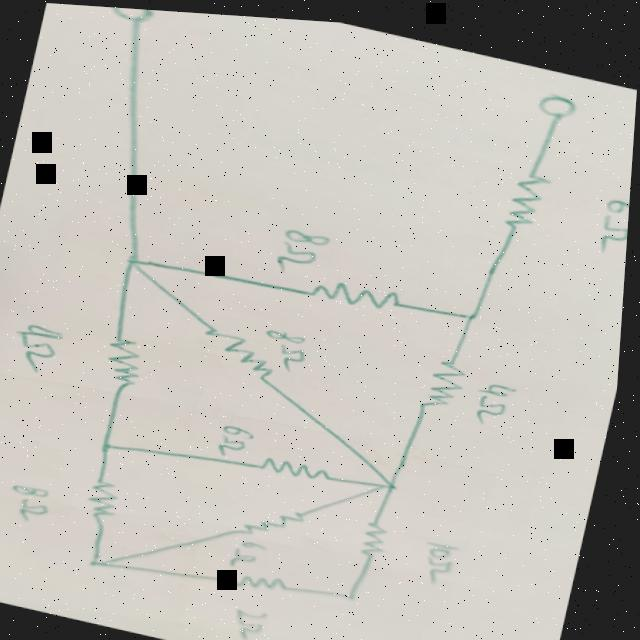junction: (99, 432, 136, 454), (121, 248, 155, 271), (463, 301, 494, 321), (380, 471, 413, 489), (346, 583, 371, 598), (91, 554, 115, 567)
resistor: (203, 324, 289, 378), (311, 267, 410, 310), (240, 493, 319, 543), (508, 162, 555, 223), (263, 448, 346, 481), (108, 331, 156, 388), (429, 350, 476, 408), (236, 563, 299, 593), (93, 474, 131, 517), (367, 512, 402, 554)
terminal: (535, 82, 585, 114), (110, 6, 159, 24)
text: (275, 220, 337, 278), (17, 320, 71, 375), (477, 370, 525, 423), (10, 477, 64, 524), (266, 324, 317, 371), (425, 530, 471, 581), (599, 186, 632, 248), (234, 532, 282, 573), (235, 599, 282, 639), (221, 418, 266, 459)
